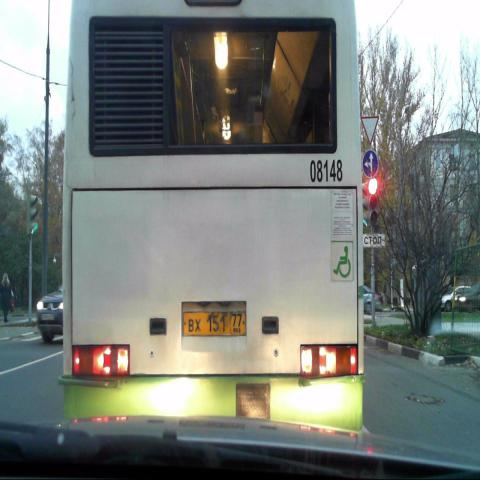4_1_5: (363, 149, 378, 179)
